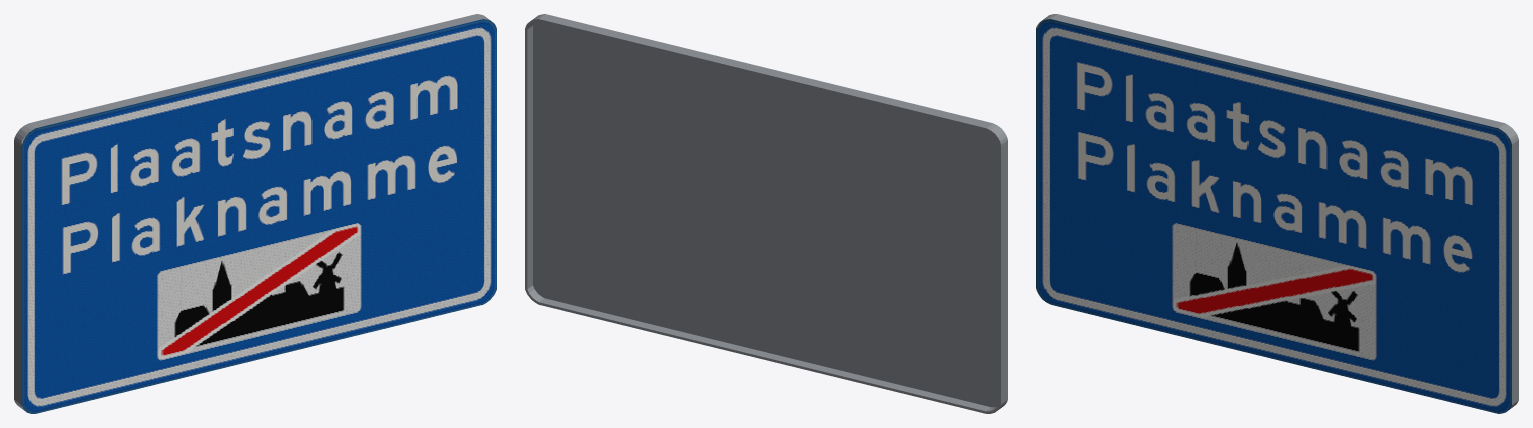
The picture shows the model from 3 angles, left to right: view 1: azimuth 30°, elevation 25°; view 2: azimuth 150°, elevation 25°; view 3: azimuth 330°, elevation 25°; orthographic projection.
Parts seen in each view (by area): view 1: cat_926e2de76d6690bd; view 2: cat_926e2de76d6690bd; view 3: cat_926e2de76d6690bd.
Part boxes in pixels (x1,y1,x2,y2): cat_926e2de76d6690bd: (14,14,496,413); cat_926e2de76d6690bd: (525,14,1007,413); cat_926e2de76d6690bd: (1036,14,1518,413).
Size of the model in its own units: 0.6 by 0.015 by 0.344.
Materials: 2 (1 with a texture image).
